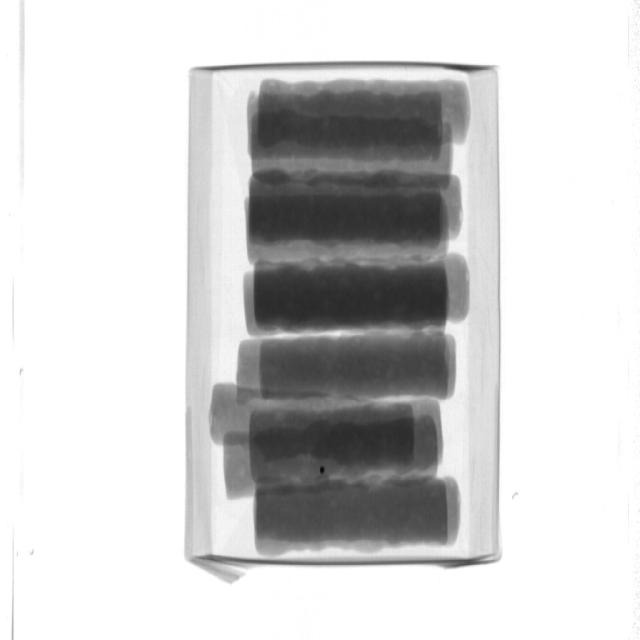ym: (320, 467, 327, 474)
